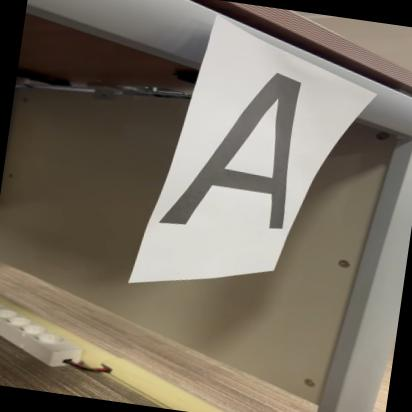seat: (143, 45, 326, 260)
